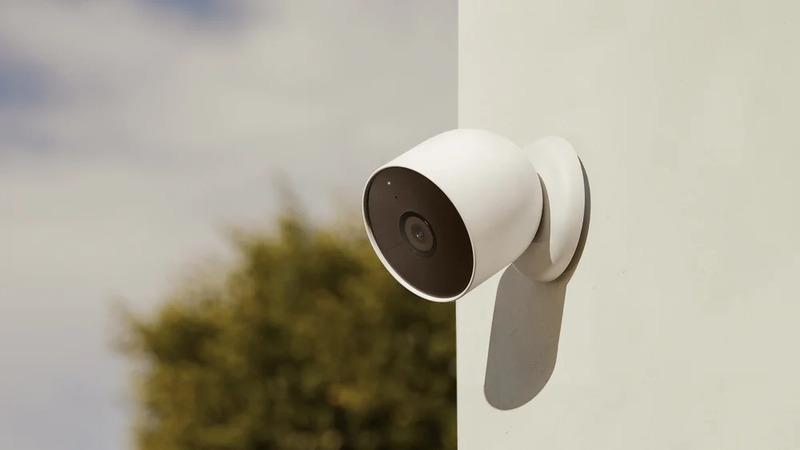nest: (342, 107, 552, 308)
